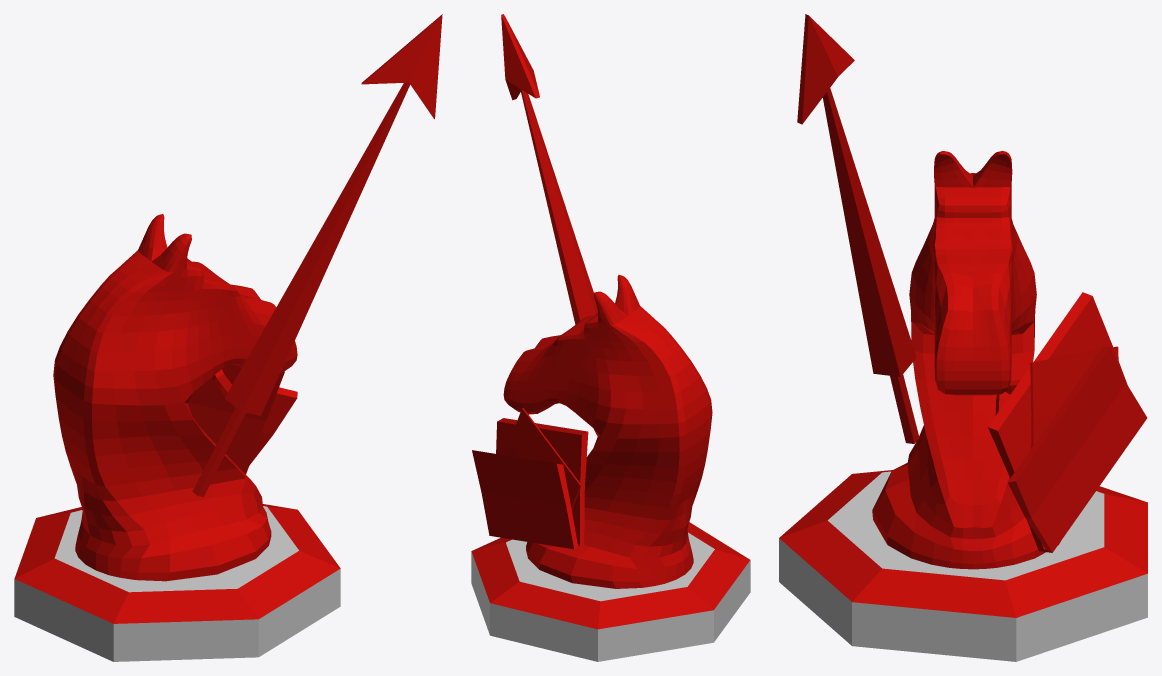
File: Windows Knight.obj
3 views of the same model, side by side, from view 1: azimuth 30°, elevation 25°; view 2: azimuth 150°, elevation 25°; view 3: azimuth 270°, elevation 25° (orthographic). The views are drawn at different scales.
Visible parts, largest first — view 1: [MESH]_Horse_Cube; view 2: [MESH]_Horse_Cube; view 3: [MESH]_Horse_Cube.
Boxes of the visible parts, x1,y1,x2,y2 form: [MESH]_Horse_Cube: (14,14,442,661); [MESH]_Horse_Cube: (471,14,750,661); [MESH]_Horse_Cube: (779,14,1147,661).
Bounding box in the file's own units: 1.99 × 3.3 × 1.63.
